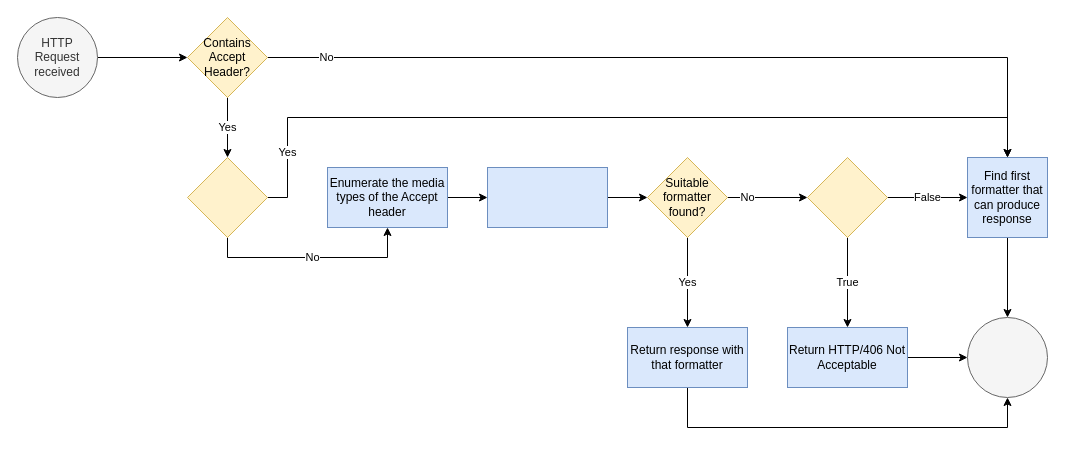
Image size: 1065x453. Some labels were removed from this diagram. The box of each missing label's shape, as (x1, y1, x2, y2) in pixels:
End: (966, 316, 1048, 398)
Header contains */*?: (186, 156, 268, 238)
MvcOptions .ReturnHttp- NotAcceptable value?: (806, 156, 888, 238)
Search for formatter that matches media type: (486, 166, 608, 228)
